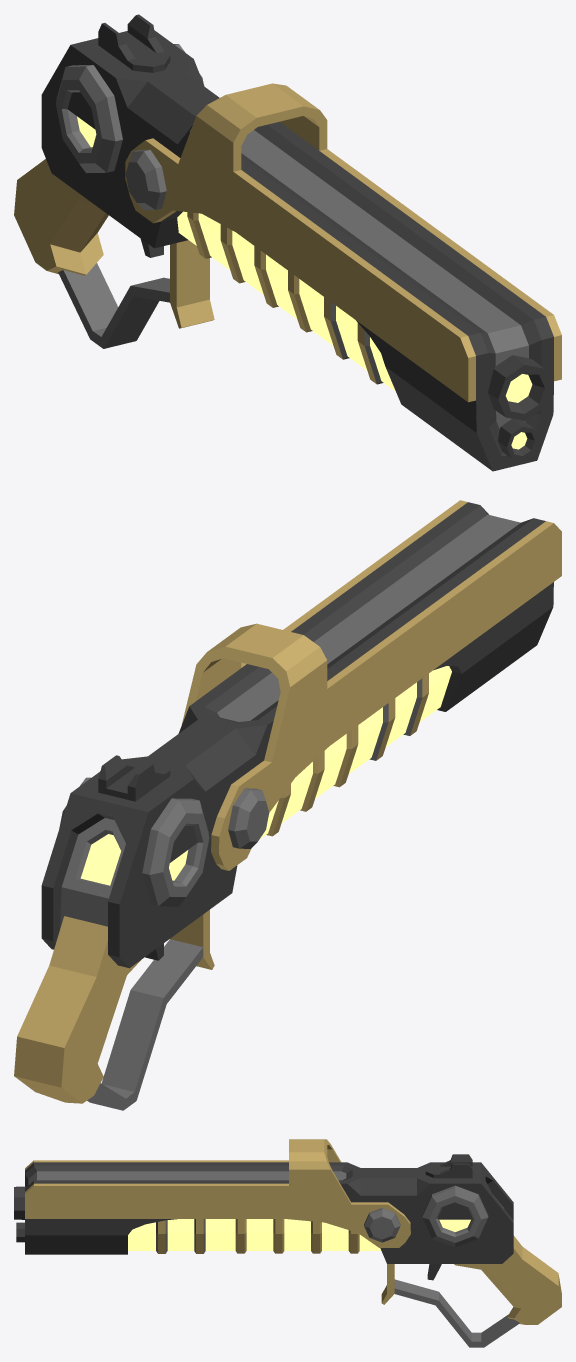
File: LongShotgun.fbx
3 renders of one model, top to bottom at view 1: azimuth 30°, elevation 25°; view 2: azimuth 150°, elevation 25°; view 3: azimuth 270°, elevation 25°, orthographic. The views are drawn at different scales.
Visible parts, largest first — view 1: LongShotgun; view 2: LongShotgun; view 3: LongShotgun.
Boxes of the visible parts, left/top/right/bottom form: LongShotgun: left=14, top=14, right=561, bottom=471; LongShotgun: left=14, top=500, right=561, bottom=1110; LongShotgun: left=14, top=1139, right=561, bottom=1347.
Size of the model in its own units: 77.17 by 213 by 538.
